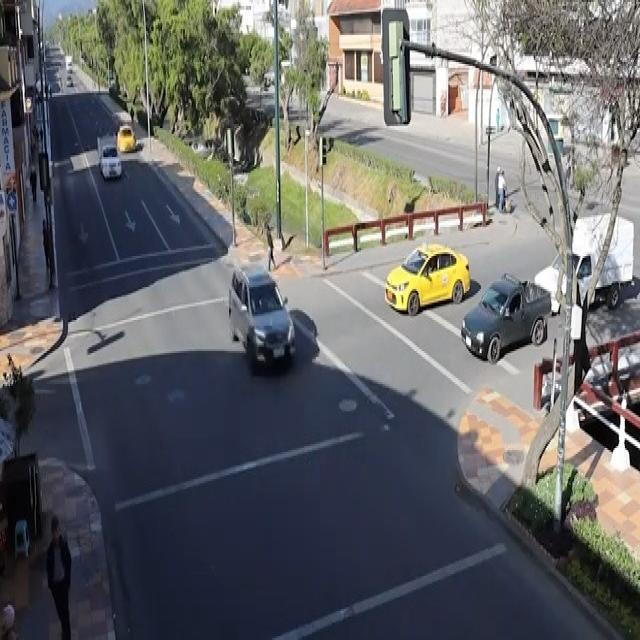CMT: (460, 272, 557, 366)
